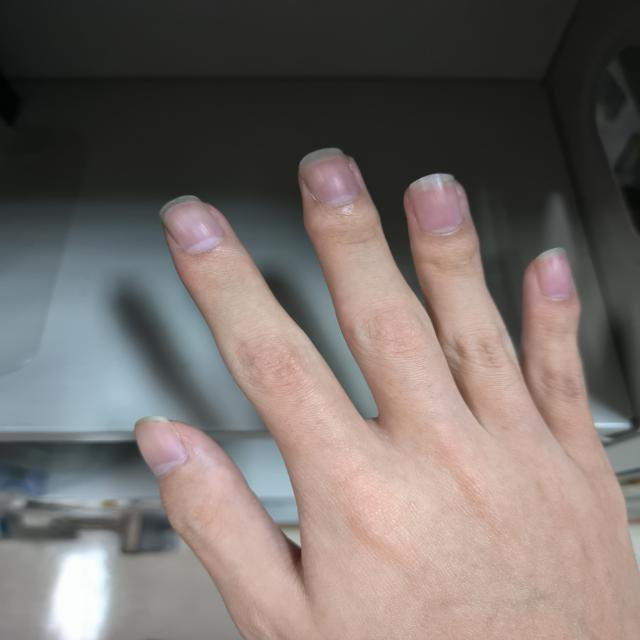Nail: (158, 196, 224, 251), (298, 149, 360, 203), (409, 174, 464, 233), (135, 416, 185, 476), (534, 248, 571, 299)
